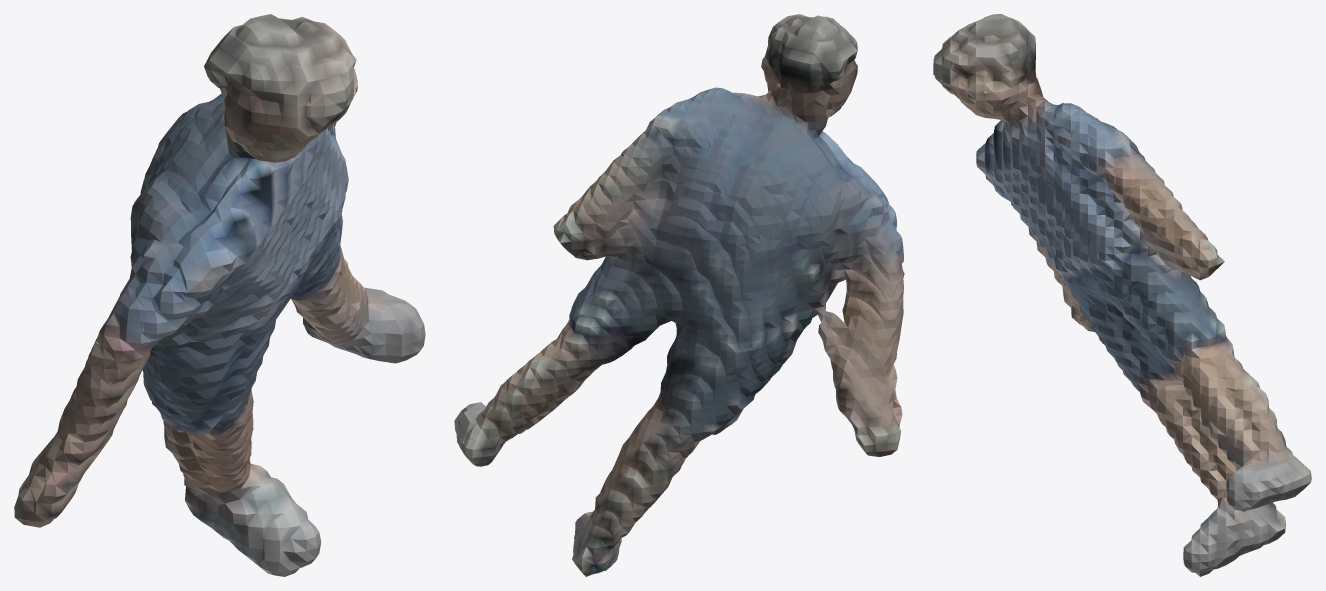
File: lying-patient.glb
3 views of the same model, side by side, from view 1: azimuth 30°, elevation 25°; view 2: azimuth 150°, elevation 25°; view 3: azimuth 270°, elevation 25° (orthographic). The views are drawn at different scales.
Visible parts, largest first — view 1: world; view 2: world; view 3: world.
Boxes of the visible parts, x1,y1,x2,y2 form: world: (14,14,425,576); world: (454,14,904,576); world: (933,14,1311,576).
Size of the model in its own units: 0.669 by 0.8753 by 0.6018.
